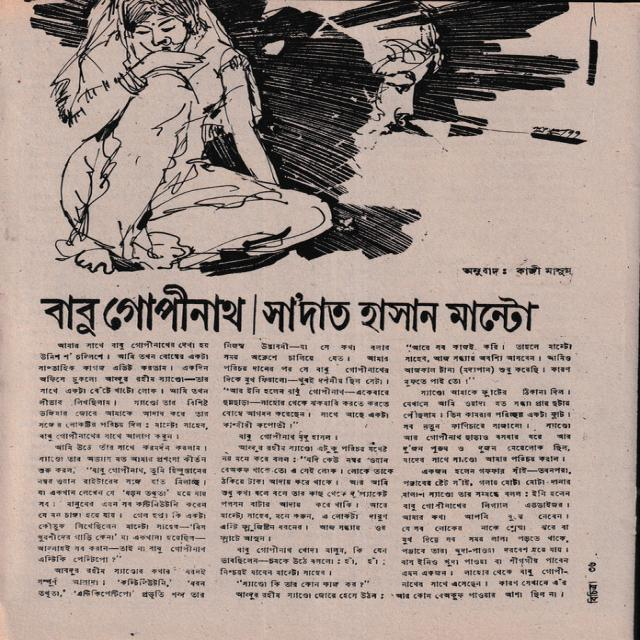image: (13, 1, 610, 277)
page number: (587, 561, 597, 573)
paragraph: (392, 466, 574, 601), (33, 442, 214, 566), (35, 339, 213, 443), (217, 443, 397, 544), (219, 340, 392, 430), (399, 387, 574, 465), (402, 341, 574, 388), (36, 565, 209, 600), (215, 545, 389, 577), (232, 590, 383, 600), (234, 578, 371, 589), (235, 431, 338, 443)
text: (455, 262, 576, 281), (586, 580, 599, 604)
title: (33, 282, 545, 339)
